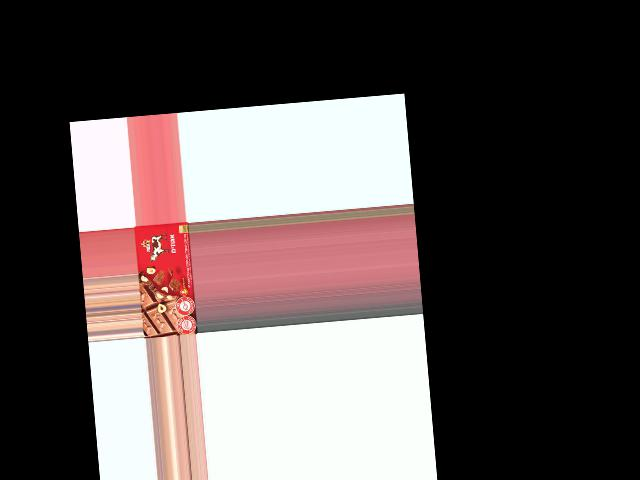chocolate: (134, 221, 196, 337)
